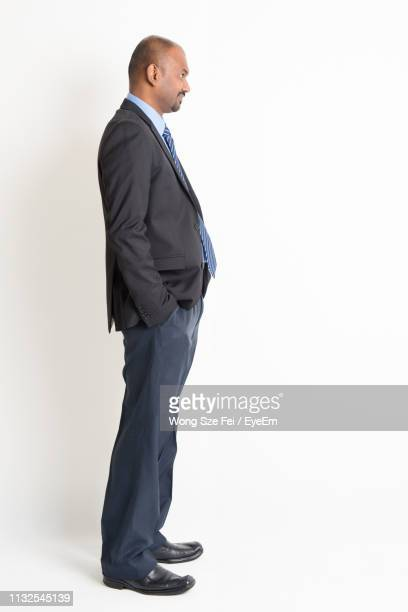person: (95, 37, 210, 594)
